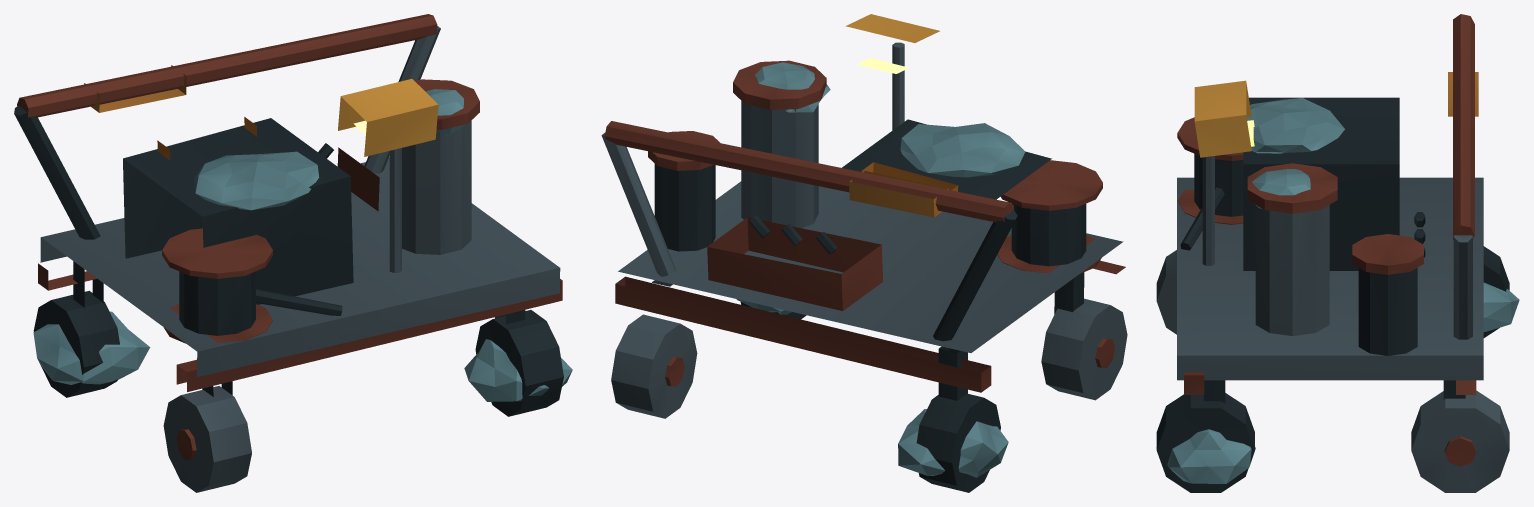
File: frozen_maintenance_cart.glb
3 renders of one model, left to right at view 1: azimuth 30°, elevation 25°; view 2: azimuth 150°, elevation 25°; view 3: azimuth 270°, elevation 25°, orthographic. The views are drawn at different scales.
Visible parts, largest first — view 1: FrozenMaintenanceCart_Mesh; view 2: FrozenMaintenanceCart_Mesh; view 3: FrozenMaintenanceCart_Mesh.
Part boxes in pixels (bbox=[...]): FrozenMaintenanceCart_Mesh: bbox=[14, 14, 572, 492]; FrozenMaintenanceCart_Mesh: bbox=[601, 14, 1127, 492]; FrozenMaintenanceCart_Mesh: bbox=[1156, 14, 1519, 492].
Size of the model in its own units: 1.66 by 1.25 by 1.26.
